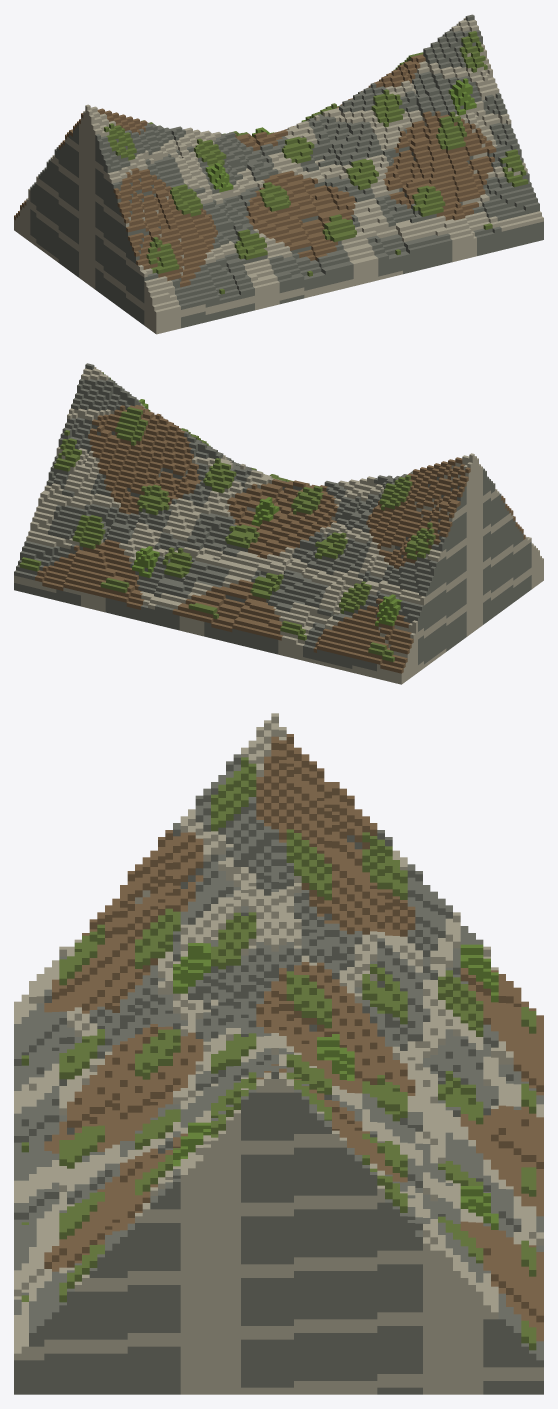
Rendered from visual-far.glb.
3 renders of one model, top to bottom at view 1: azimuth 30°, elevation 25°; view 2: azimuth 150°, elevation 25°; view 3: azimuth 270°, elevation 25°, orthographic. The views are drawn at different scales.
Visible parts, largest first — view 1: 山鞍与山脊过渡块; view 2: 山鞍与山脊过渡块; view 3: 山鞍与山脊过渡块.
Part boxes in pixels (x1,y1,x2,y2): 山鞍与山脊过渡块: (14,14,543,334); 山鞍与山脊过渡块: (14,363,543,684); 山鞍与山脊过渡块: (14,713,543,1394).
Bounding box in the file's own units: 22 × 9.6 × 14.
5 materials, 5 textured.
